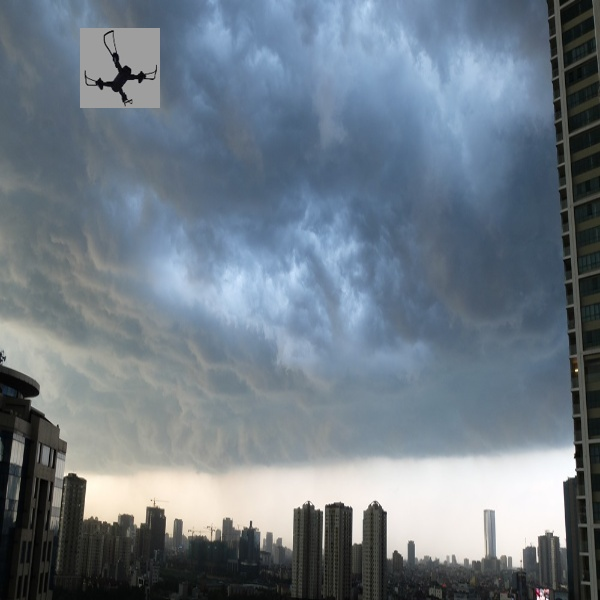drone: (80, 26, 159, 108)
